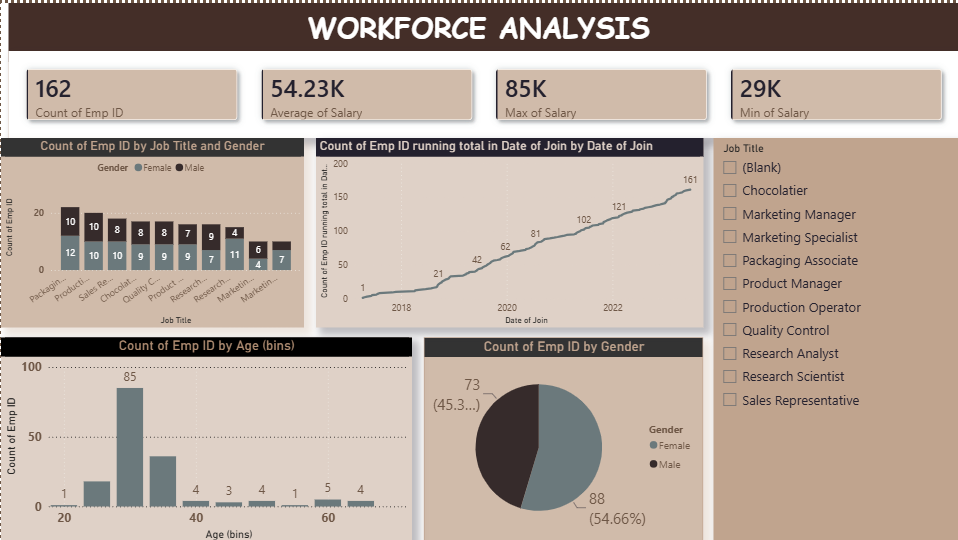

The page's visual inventory and layout, read from the dashboard file:
{"tool":"powerbi","page":{"name":"DASHBOARD","canvas":[1280,720],"ordinal":8},"visuals":[{"type":"textbox","box":[10,0,1270,78],"z":0},{"type":"cardVisual","fields":{"Data":["Count(data.Emp ID)","Avg(data.Salary)","Max(data.Salary)1","Min(data.Salary)2"]},"box":[10,64,1270,116],"z":1000},{"type":"columnChart","fields":{"Category":["data.Job Title"],"Series":["data.Gender"],"Y":["CountNonNull(data.Emp ID)"]},"box":[0,180.6,404.2,252.8],"z":2000},{"type":"pieChart","fields":{"Category":["data.Gender"],"Y":["CountNonNull(data.Emp ID)"]},"box":[563.9,445.8,372.2,273.6],"z":3000},{"type":"lineChart","fields":{"Category":["data.Date of Join"],"Y":["data.Count of Emp ID running total in Date of Join"]},"box":[419.4,180.6,516.7,252.8],"z":4000},{"type":"clusteredColumnChart","fields":{"Category":["data.Age (bins)"],"Y":["CountNonNull(data.Emp ID)"]},"box":[0,446,548,274],"z":5000},{"type":"slicer","fields":{"Values":["data.Job Title"]},"box":[950,180,330,540],"z":6000}]}

Visuals, with their boxes in screenshot pixels (x1, y1, x2, y2), scaled from the page's 1280x720 canvas onto the 958x540 screenshot:
textbox: bbox(7, 0, 957, 58)
cardVisual - Count(data.Emp ID) x Avg(data.Salary): bbox(7, 48, 957, 135)
columnChart - data.Job Title x data.Gender: bbox(0, 135, 303, 325)
pieChart - data.Gender x CountNonNull(data.Emp ID): bbox(422, 334, 701, 539)
lineChart - data.Date of Join x data.Count of Emp ID running total in Date of Join: bbox(314, 135, 701, 325)
clusteredColumnChart - data.Age (bins) x CountNonNull(data.Emp ID): bbox(0, 334, 410, 539)
slicer - data.Job Title: bbox(711, 135, 957, 539)
